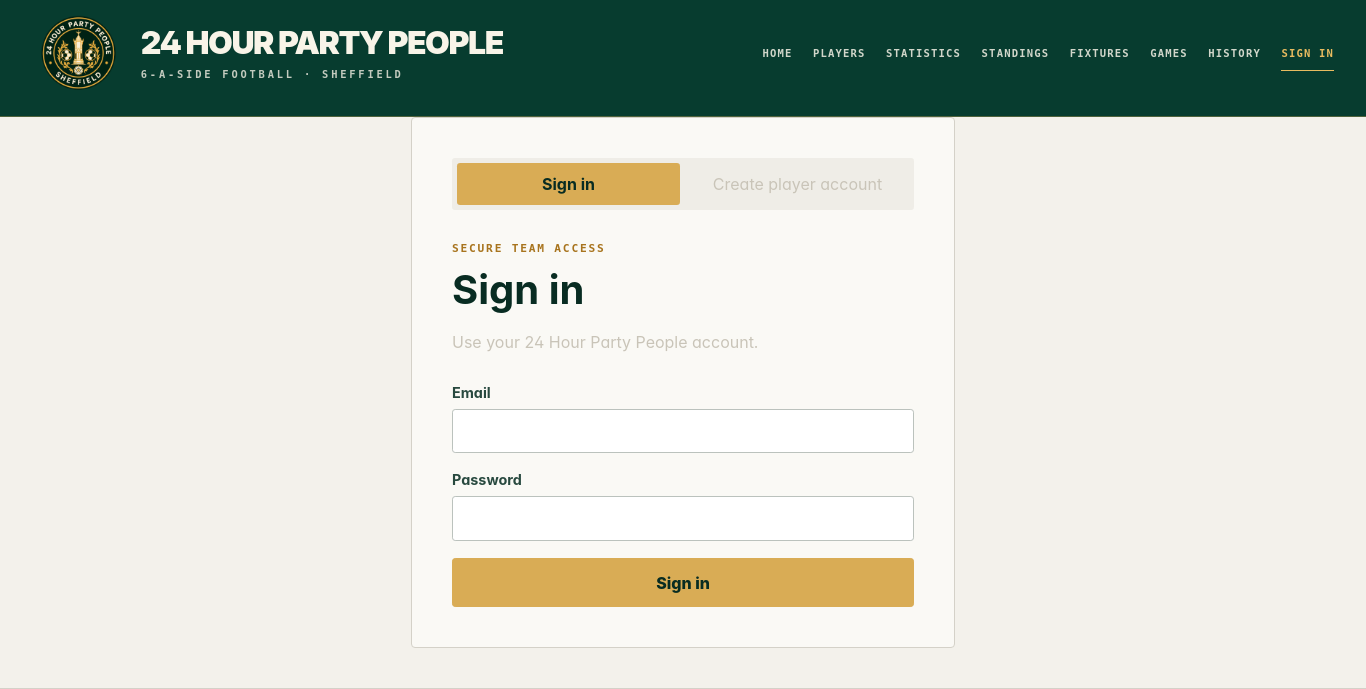
it: App › lets a player create an account and request an available profile
This screenshot has width=1366, height=689.
Click the button "Create player account".
click(798, 184)  # box [686,163,909,205]
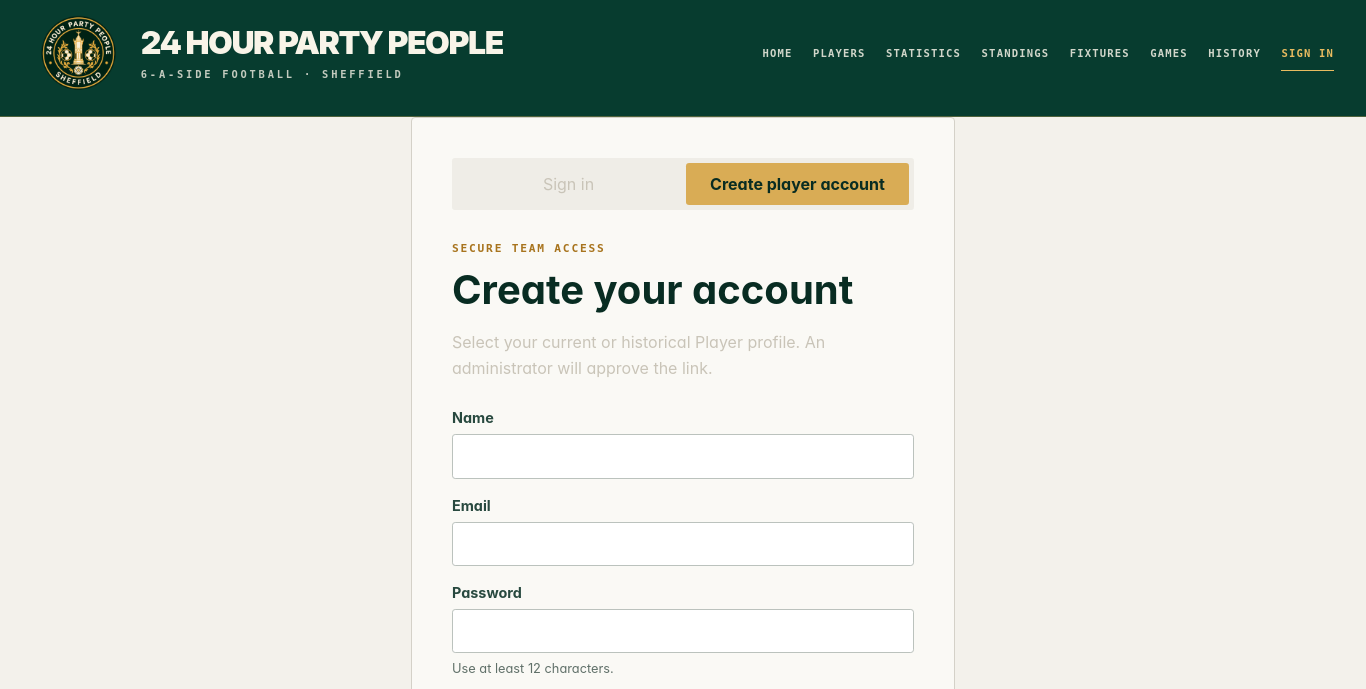
Type "Alex" into the field labelled "Name".
click(683, 457); type("Alex")  # box [452,434,914,479]
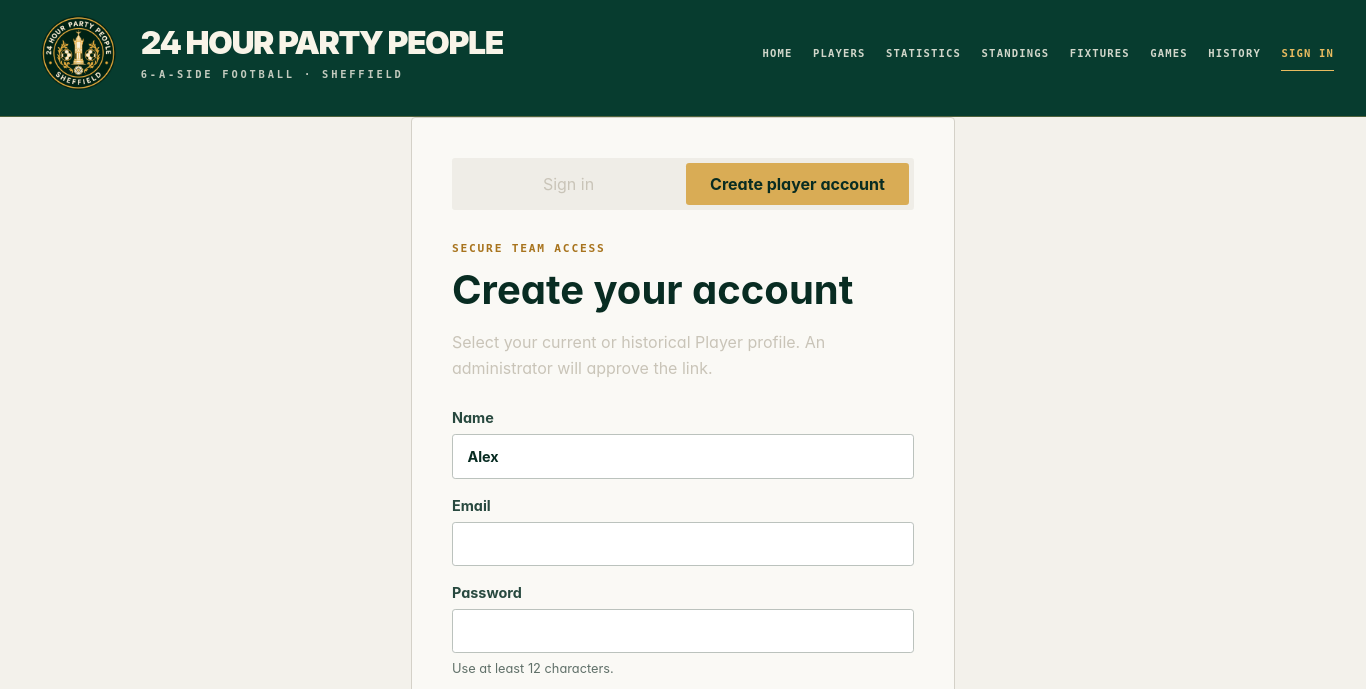
Type "alex@example.test" into the field labelled "Email".
click(683, 544); type("alex@example.test")  # box [452,522,914,566]
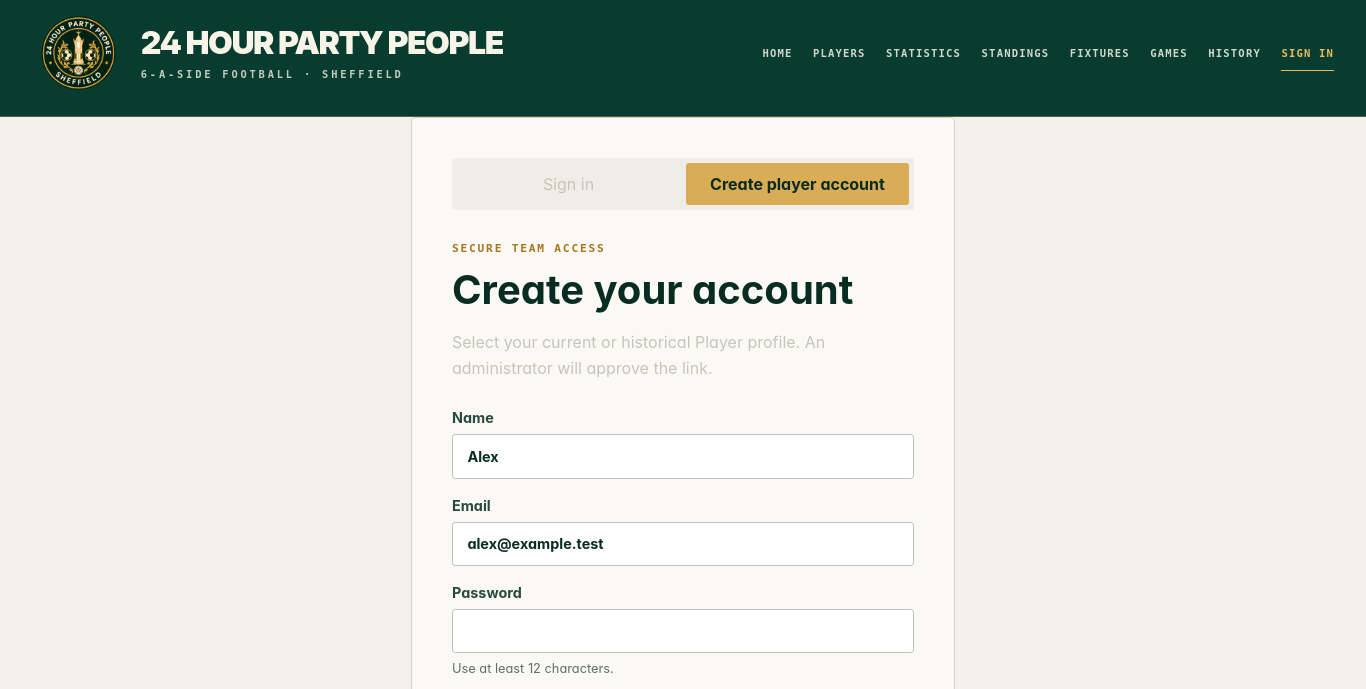
Type "a secure player password" into the password field labelled "Password Use at least 12 characters.".
click(683, 631); type("a secure player password")  # box [452,609,914,653]
(page scrolled)
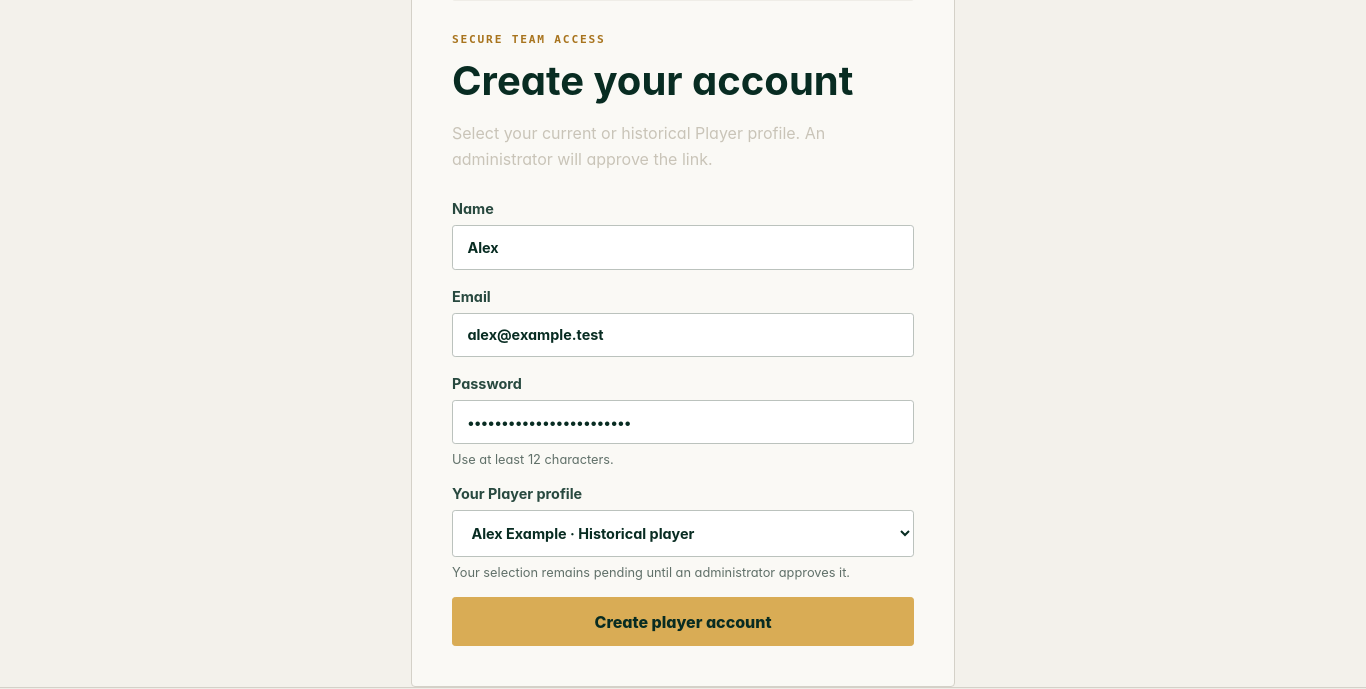
Click the button "Create player account" below "Your Player profile".
click(683, 622)  # box [452,597,914,646]
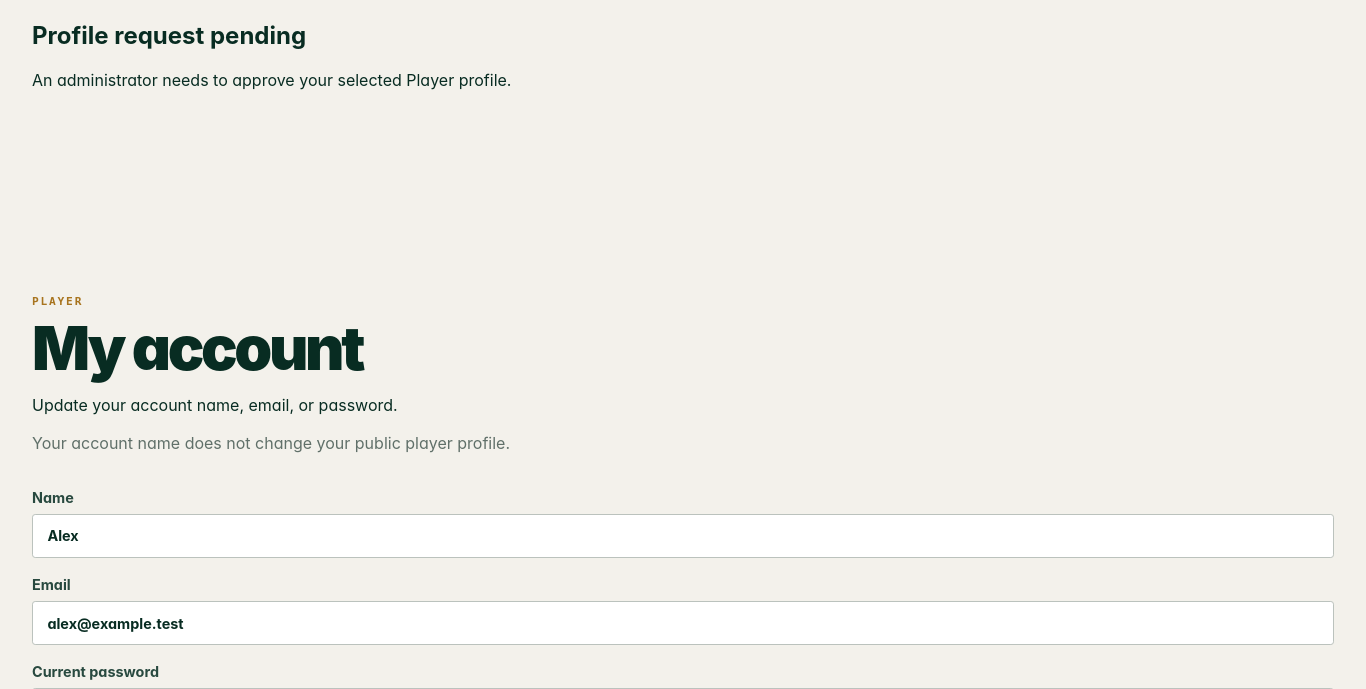
Expected: the heading "Profile request pending" is shown, [32,21,306,50]
Expected: the heading "My account" is shown, [32,311,362,385]
